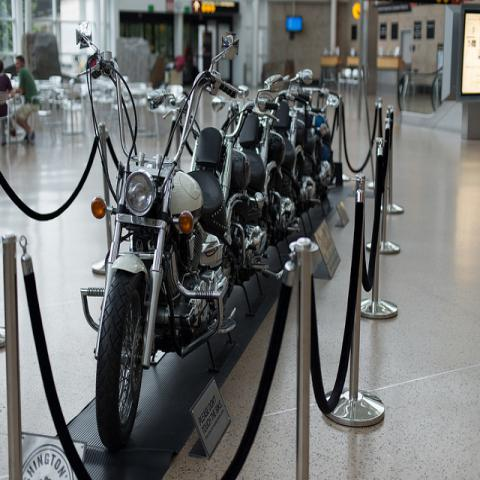motorcycle: (90, 54, 232, 456), (149, 74, 296, 290), (275, 67, 320, 218), (294, 92, 333, 219), (245, 99, 293, 176), (312, 91, 340, 179), (267, 117, 287, 164)
